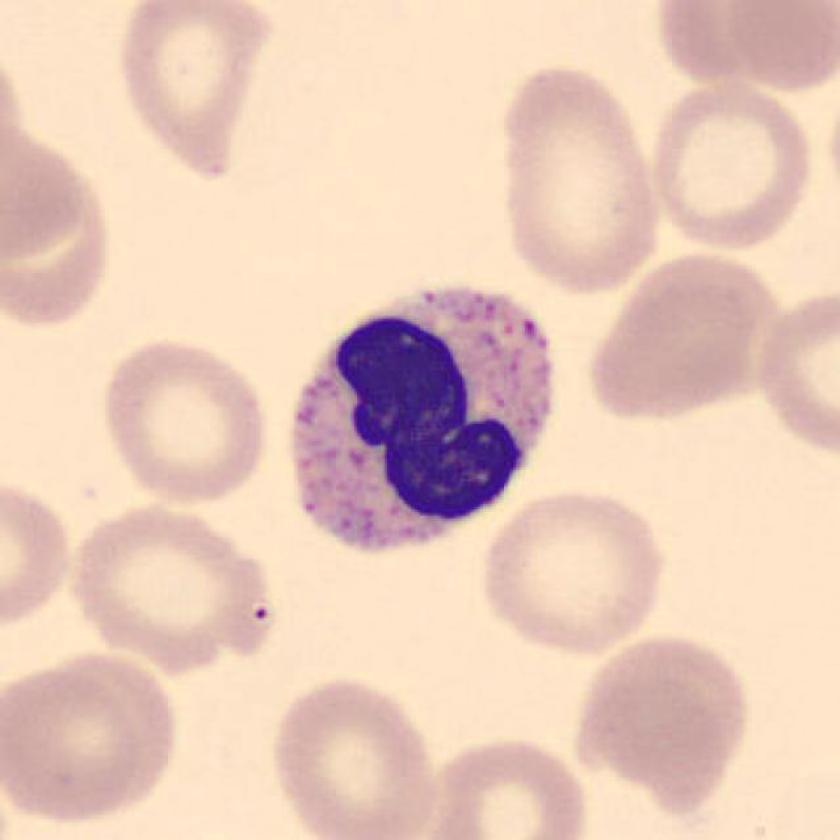neutrophil: (295, 289, 552, 550)
